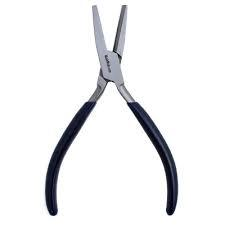pliers: (43, 2, 178, 217)
